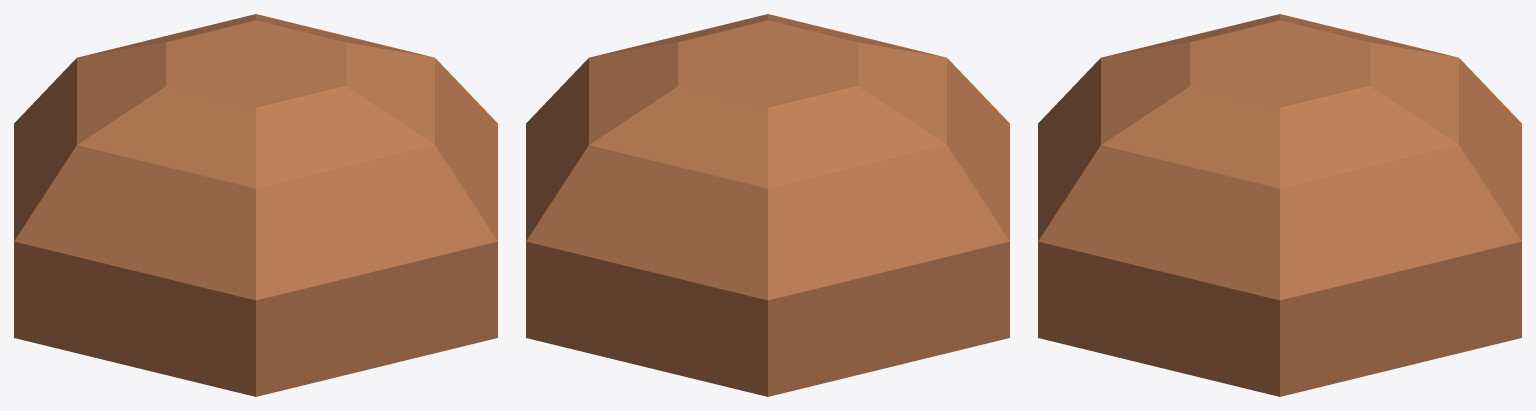
File: meteorhalf.glb
3 renders of one model, left to right at view 1: azimuth 30°, elevation 25°; view 2: azimuth 150°, elevation 25°; view 3: azimuth 270°, elevation 25°, orthographic.
Parts seen in each view (by area): view 1: meteorHalf; view 2: meteorHalf; view 3: meteorHalf.
Part boxes in pixels (<box>): meteorHalf: <box>14,14,497,396</box>; meteorHalf: <box>526,14,1009,396</box>; meteorHalf: <box>1038,14,1521,396</box>.
Size of the model in its own units: 11.55 by 4.9 by 10.
